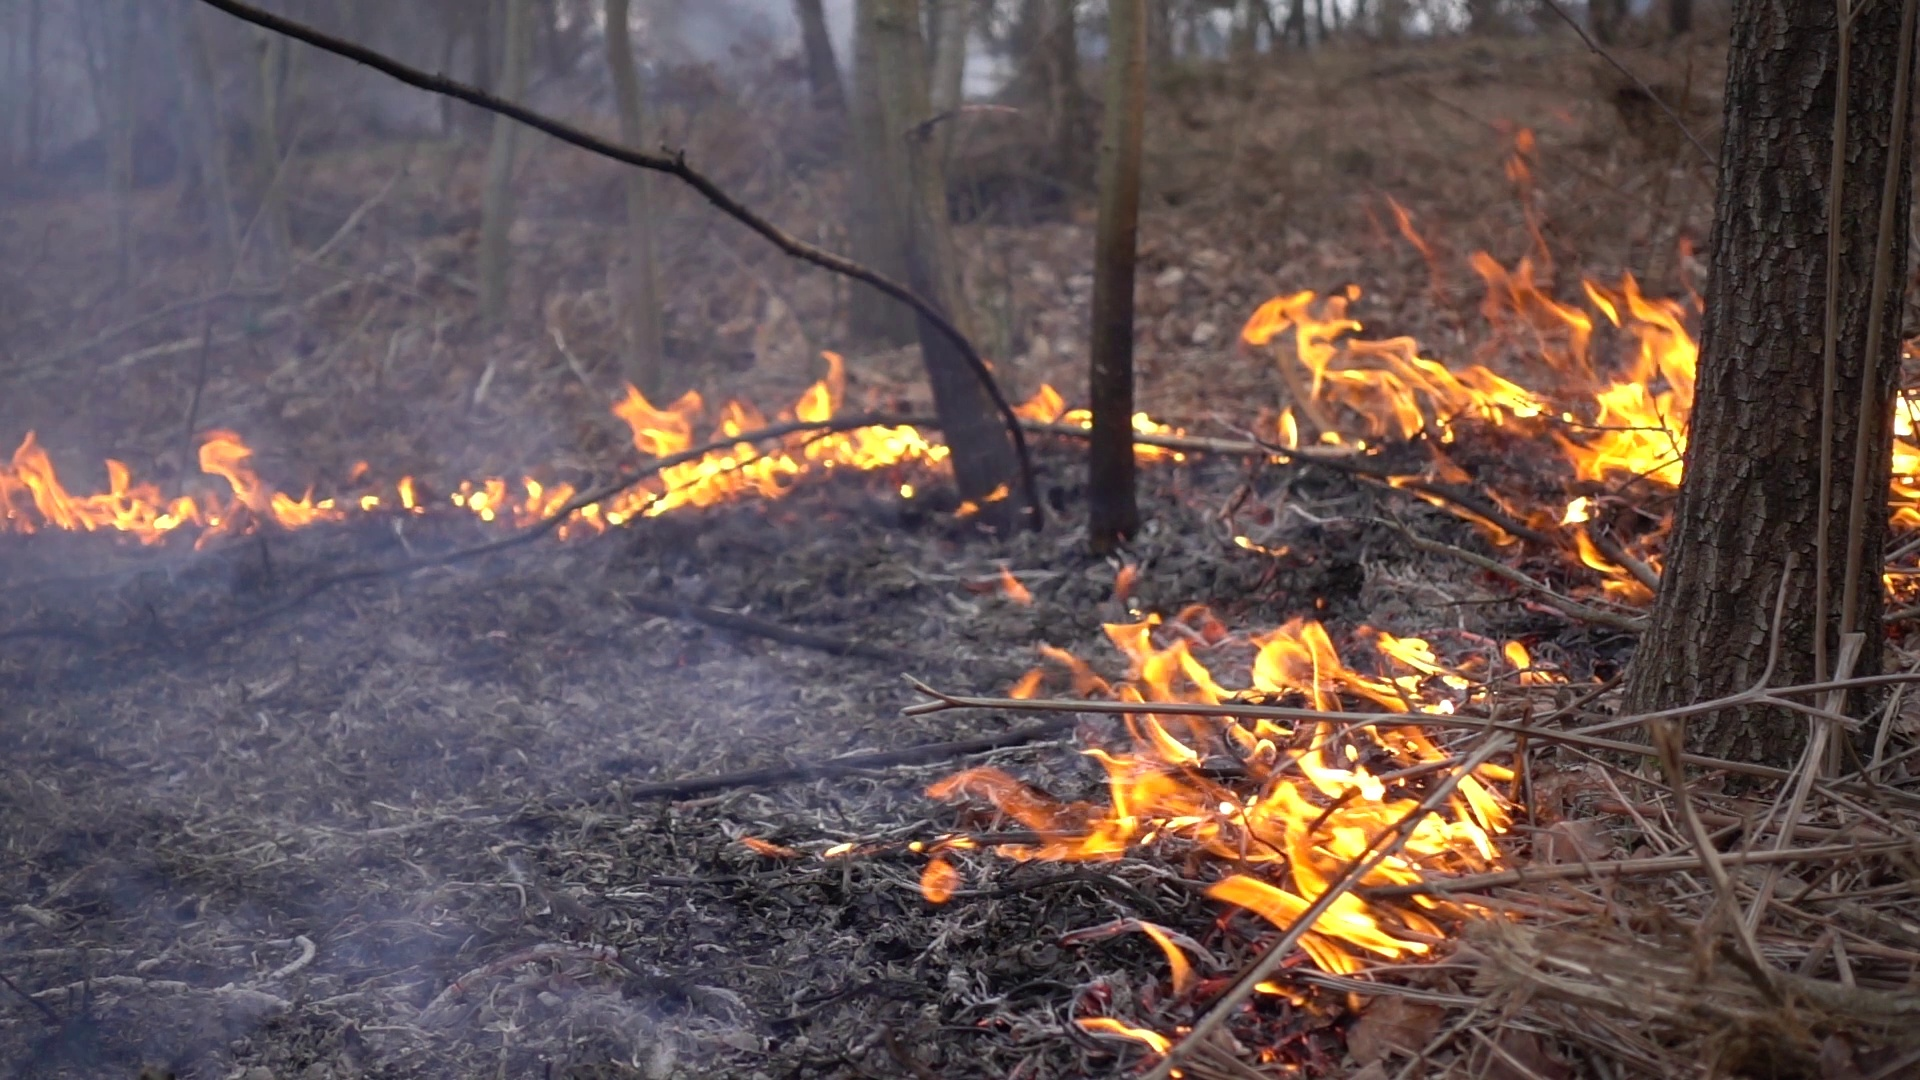fire: (1102, 620, 1449, 945), (600, 371, 942, 524), (1244, 299, 1524, 448), (1580, 276, 1689, 484), (11, 431, 196, 531), (203, 435, 322, 526), (1888, 392, 1920, 527), (460, 481, 564, 516)
